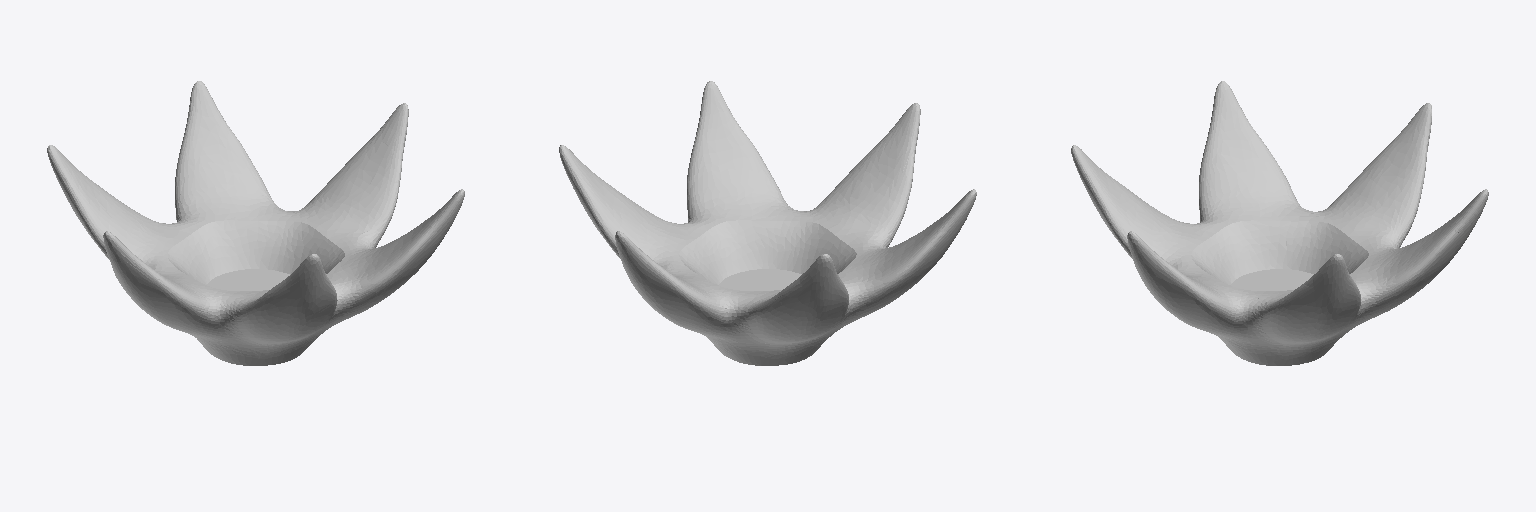
The model's file is flower-small.obj.
The picture shows the model from 3 angles: view 1: azimuth 30°, elevation 25°; view 2: azimuth 150°, elevation 25°; view 3: azimuth 270°, elevation 25°; orthographic projection.
Visible parts, largest first — view 1: Quad_Sphere; view 2: Quad_Sphere; view 3: Quad_Sphere.
Part boxes in pixels (x1,y1,x2,y2): Quad_Sphere: (47,81,464,365); Quad_Sphere: (559,81,976,365); Quad_Sphere: (1071,81,1488,365).
Bounding box in the file's own units: 1.49 × 0.7007 × 1.5.